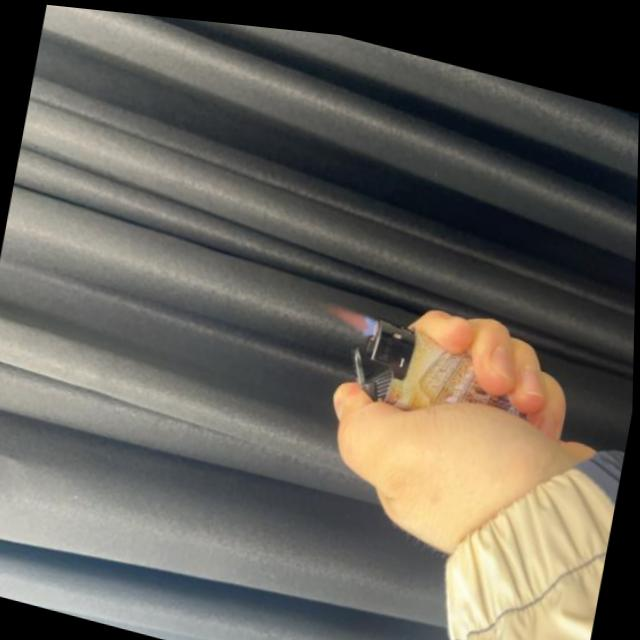Fire: (326, 293, 379, 331)
